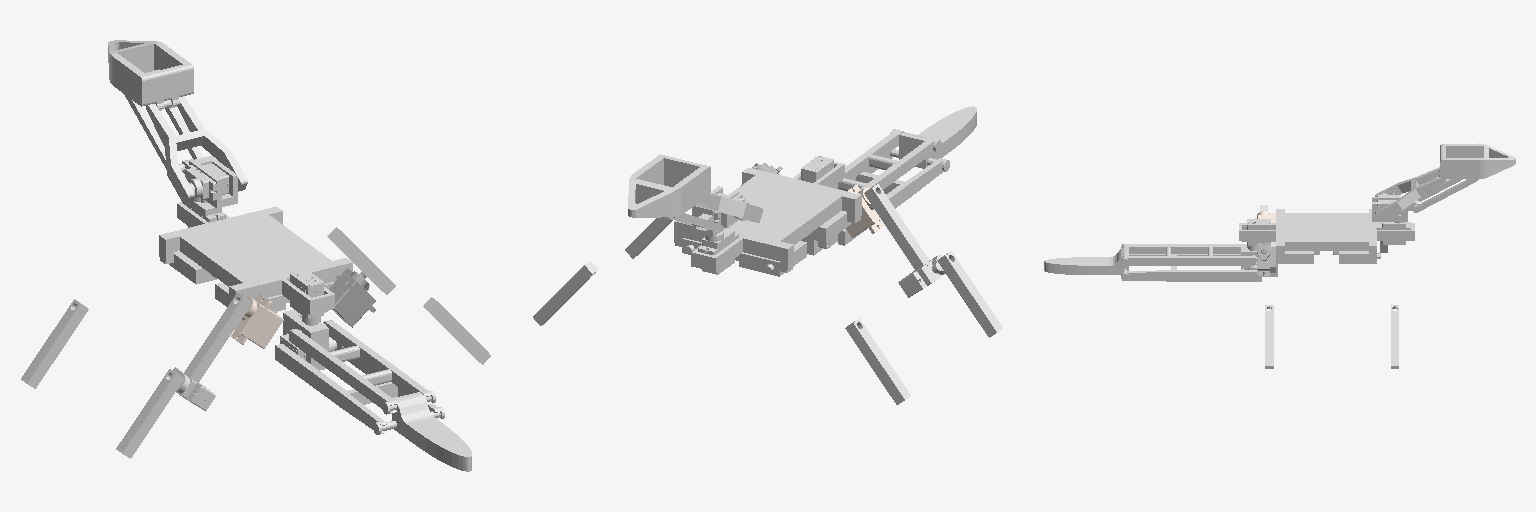
The robot description file, URDF, robot "lizardv2_description":
<?xml version="1.0" encoding="utf-8"?>
<!-- This URDF was automatically created by SolidWorks to URDF Exporter! Originally created by [author] ([email redacted])
     Commit Version: 1.5.0-0-g9aa0fdb  Build Version: 1.5.7004.21443
     For more information, please see http://wiki.ros.org/sw_urdf_exporter -->
<robot
  name="lizardv2_description">
  <link
    name="MainBoard">
    <inertial>
      <origin
        xyz="0.0318708943804719 0.023913899686553 -0.00595908163167723"
        rpy="0 0 0" />
      <mass
        value="0.127454615671169" />  <!-- 0.227454615671169 -->
      <inertia
        ixx="0.000136525777773456"
        ixy="3.12863888453759E-07"
        ixz="1.90573445048021E-08"
        iyy="4.68216222434367E-05"
        iyz="-2.83843165485194E-06"
        izz="0.000174561924229273" />
    </inertial>
    <visual>
      <origin
        xyz="0 0 0"
        rpy="0 0 0" />
      <geometry>
        <mesh
          filename="package://lizardv2_description/meshes/MainBoard.STL" />
      </geometry>
      <material
        name="">
        <color
          rgba="0.92156862745098 0.92156862745098 0.92156862745098 1" />
      </material>
    </visual>
    <collision>
      <origin
        xyz="0 0 0"
        rpy="0 0 0" />
      <geometry>
        <mesh
          filename="package://lizardv2_description/meshes/MainBoard.STL" />
      </geometry>
    </collision>
  </link>
  <link
    name="FRndServoLink">
    <inertial>
      <origin
        xyz="0.00980168628095077 0.00502207558822694 0.00196275745174633"
        rpy="0 0 0" />
      <mass
        value="0.00898215937174241" />
      <inertia
        ixx="5.02863358905766E-07"
        ixy="4.1867498994215E-10"
        ixz="3.94795319133528E-11"
        iyy="3.74381833099219E-07"
        iyz="-1.31121128197788E-07"
        izz="3.05060716060262E-07" />
    </inertial>
    <visual>
      <origin
        xyz="0 0 0"
        rpy="0 0 0" />
      <geometry>
        <mesh
          filename="package://lizardv2_description/meshes/FRndServoLink.STL" />
      </geometry>
      <material
        name="">
        <color
          rgba="0.749019607843137 0.749019607843137 0.749019607843137 1" />
      </material>
    </visual>
    <collision>
      <origin
        xyz="0 0 0"
        rpy="0 0 0" />
      <geometry>
        <mesh
          filename="package://lizardv2_description/meshes/FRndServoLink.STL" />
      </geometry>
    </collision>
  </link>
  <joint
    name="FRndServoJnt"
    type="continuous">
    <origin
      xyz="0.0615 0.087 -0.016"
      rpy="3.1416 0 1.5708" />
    <parent
      link="MainBoard" />
    <child
      link="FRndServoLink" />
    <axis
      xyz="-1 0 0" />
    <safety_controller
      k_velocity="0" />
  </joint>
  <link
    name="FRstArmLink">
    <inertial>
      <origin
        xyz="-0.0500875871691268 0.00194912578757789 0.000253934421777263"
        rpy="0 0 0" />
      <mass
        value="0.0107279118339416" />
      <inertia
        ixx="4.12846704724883E-07"
        ixy="-3.43056520530813E-12"
        ixz="7.44936775104867E-12"
        iyy="1.46713624904103E-06"
        iyz="-9.74334413202601E-09"
        izz="1.19624826531191E-06" />
    </inertial>
    <visual>
      <origin
        xyz="0 0 0"
        rpy="0 0 0" />
      <geometry>
        <mesh
          filename="package://lizardv2_description/meshes/FRstArmLink.STL" />
      </geometry>
      <material
        name="">
        <color
          rgba="0.92156862745098 0.92156862745098 0.92156862745098 1" />
      </material>
    </visual>
    <collision>
      <origin
        xyz="0 0 0"
        rpy="0 0 0" />
      <geometry>
        <mesh
          filename="package://lizardv2_description/meshes/FRstArmLink.STL" />
      </geometry>
    </collision>
  </link>
  <joint
    name="FRstArmJnt"
    type="continuous">
    <origin
      xyz="0.01165 0.012199 -0.010432"
      rpy="-1.5708 0.87266 -1.5708" />
    <parent
      link="FRndServoLink" />
    <child
      link="FRstArmLink" />
    <axis
      xyz="0 -1 0" />
    <safety_controller
      k_velocity="0" />
  </joint>
  <link
    name="FRndArmLink">
    <inertial>
      <origin
        xyz="2.22044604925031E-16 0.00399999999999981 0.0271089217366484"
        rpy="0 0 0" />
      <mass
        value="0.0036829203673205" />
      <inertia
        ixx="1.060682058846E-06"
        ixy="-2.61078880837049E-23"
        ixz="-3.15646547974623E-21"
        iyy="1.0612743799609E-06"
        iyz="-1.68132721636094E-22"
        izz="3.98768050329809E-08" />
    </inertial>
    <visual>
      <origin
        xyz="0 0 0"
        rpy="0 0 0" />
      <geometry>
        <mesh
          filename="package://lizardv2_description/meshes/FRndArmLink.STL" />
      </geometry>
      <material
        name="">
        <color
          rgba="0.92156862745098 0.92156862745098 0.92156862745098 1" />
      </material>
    </visual>
    <collision>
      <origin
        xyz="0 0 0"
        rpy="0 0 0" />
      <geometry>
        <mesh
          filename="package://lizardv2_description/meshes/FRndArmLink.STL" />
      </geometry>
    </collision>
  </link>
  <joint
    name="FRndArmJnt"
    type="continuous">
    <origin
      xyz="-0.0621 0.01505 0.00515"
      rpy="1.6427 -1.5708 -1.6427" />
    <parent
      link="FRstArmLink" />
    <child
      link="FRndArmLink" />
    <axis
      xyz="0 -1 0" />
    <safety_controller
      k_velocity="0" />
  </joint>
  <link
    name="FLndServoLink">
    <inertial>
      <origin
        xyz="0.0050221 0.0098014 0.0019628"
        rpy="0 0 0" />
      <mass
        value="0.0089822" />
      <inertia
        ixx="3.7438E-07"
        ixy="4.0384E-10"
        ixz="-1.3112E-07"
        iyy="5.0286E-07"
        iyz="3.2481E-11"
        izz="3.0506E-07" />
    </inertial>
    <visual>
      <origin
        xyz="0 0 0"
        rpy="0 0 0" />
      <geometry>
        <mesh
          filename="package://lizardv2_description/meshes/FLndServoLink.STL" />
      </geometry>
      <material
        name="">
        <color
          rgba="1 0.94902 0.9098 1" />
      </material>
    </visual>
    <collision>
      <origin
        xyz="0 0 0"
        rpy="0 0 0" />
      <geometry>
        <mesh
          filename="package://lizardv2_description/meshes/FLndServoLink.STL" />
      </geometry>
    </collision>
  </link>
  <joint
    name="FLndServoJnt"
    type="continuous">
    <origin
      xyz="0.0025 0.087 -0.016"
      rpy="-3.1416 0 3.1416" />
    <parent
      link="MainBoard" />
    <child
      link="FLndServoLink" />
    <axis
      xyz="0 -1 0" />
    <safety_controller
      k_velocity="0" />
  </joint>
  <link
    name="FLstArmLink">
    <inertial>
      <origin
        xyz="-0.0500875872307532 0.00194912586046352 0.000253934457508431"
        rpy="0 0 0" />
      <mass
        value="0.0107279119252347" />
      <inertia
        ixx="4.12846706539516E-07"
        ixy="-3.4316328345475E-12"
        ixz="7.44762988494872E-12"
        iyy="1.46713625236567E-06"
        iyz="-9.74334495191596E-09"
        izz="1.19624826786885E-06" />
    </inertial>
    <visual>
      <origin
        xyz="0 0 0"
        rpy="0 0 0" />
      <geometry>
        <mesh
          filename="package://lizardv2_description/meshes/FLstArmLink.STL" />
      </geometry>
      <material
        name="">
        <color
          rgba="0.92156862745098 0.92156862745098 0.92156862745098 1" />
      </material>
    </visual>
    <collision>
      <origin
        xyz="0 0 0"
        rpy="0 0 0" />
      <geometry>
        <mesh
          filename="package://lizardv2_description/meshes/FLstArmLink.STL" />
      </geometry>
    </collision>
  </link>
  <joint
    name="FLstArmJnt"
    type="continuous">
    <origin
      xyz="0.012199 0.01165 -0.010432"
      rpy="-1.5708 0.87266 3.1416" />
    <parent
      link="FLndServoLink" />
    <child
      link="FLstArmLink" />
    <axis
      xyz="0 -1 0" />
    <safety_controller
      k_velocity="0" />
  </joint>
  <link
    name="FLndArmLink">
    <inertial>
      <origin
        xyz="0 0.00399999999999997 0.0271089217366484"
        rpy="0 0 0" />
      <mass
        value="0.00368292036732051" />
      <inertia
        ixx="1.06068205884601E-06"
        ixy="-2.27474668452083E-23"
        ixz="-2.5127792148929E-22"
        iyy="1.0612743799609E-06"
        iyz="1.79587457327763E-21"
        izz="3.98768050329804E-08" />
    </inertial>
    <visual>
      <origin
        xyz="0 0 0"
        rpy="0 0 0" />
      <geometry>
        <mesh
          filename="package://lizardv2_description/meshes/FLndArmLink.STL" />
      </geometry>
      <material
        name="">
        <color
          rgba="0.92156862745098 0.92156862745098 0.92156862745098 1" />
      </material>
    </visual>
    <collision>
      <origin
        xyz="0 0 0"
        rpy="0 0 0" />
      <geometry>
        <mesh
          filename="package://lizardv2_description/meshes/FLndArmLink.STL" />
      </geometry>
    </collision>
  </link>
  <joint
    name="FLndArmJnt"
    type="continuous">
    <origin
      xyz="-0.0621 0.01505 0.00515"
      rpy="-1.9544 -1.5708 1.9544" />
    <parent
      link="FLstArmLink" />
    <child
      link="FLndArmLink" />
    <axis
      xyz="0 -1 0" />
    <safety_controller
      k_velocity="0" />
  </joint>
  <link
    name="RLndServoLink">
    <inertial>
      <origin
        xyz="0.00502207563121094 0.00980168635904874 -0.00196275734735713"
        rpy="0 0 0" />
      <mass
        value="0.0089821594835975" />
      <inertia
        ixx="3.74381837395238E-07"
        ixy="4.18675619504707E-10"
        ixz="1.311211286574E-07"
        iyy="5.0286336077878E-07"
        iyz="-3.94816041911556E-11"
        izz="3.05060718753469E-07" />
    </inertial>
    <visual>
      <origin
        xyz="0 0 0"
        rpy="0 0 0" />
      <geometry>
        <mesh
          filename="package://lizardv2_description/meshes/RLndServoLink.STL" />
      </geometry>
      <material
        name="">
        <color
          rgba="1 0.949019607843137 0.909803921568627 1" />
      </material>
    </visual>
    <collision>
      <origin
        xyz="0 0 0"
        rpy="0 0 0" />
      <geometry>
        <mesh
          filename="package://lizardv2_description/meshes/RLndServoLink.STL" />
      </geometry>
    </collision>
  </link>
  <joint
    name="RLndServoJnt"
    type="continuous">
    <origin
      xyz="0.00249999999999984 -0.00799999999999976 -0.016"
      rpy="0 0 -3.14159265358979" />
    <parent
      link="MainBoard" />
    <child
      link="RLndServoLink" />
    <axis
      xyz="0 -1 0" />
    <safety_controller
      k_velocity="0" />
  </joint>
  <link
    name="RLstArmLink">
    <inertial>
      <origin
        xyz="-0.0500875871887852 0.00194912580032853 0.000253934434909332"
        rpy="0 0 0" />
      <mass
        value="0.0107279118502789" />
      <inertia
        ixx="4.12846705905815E-07"
        ixy="-3.4305322531194E-12"
        ixz="7.44950999545174E-12"
        iyy="1.46713625013441E-06"
        iyz="-9.74334443894416E-09"
        izz="1.19624826539149E-06" />
    </inertial>
    <visual>
      <origin
        xyz="0 0 0"
        rpy="0 0 0" />
      <geometry>
        <mesh
          filename="package://lizardv2_description/meshes/RLstArmLink.STL" />
      </geometry>
      <material
        name="">
        <color
          rgba="0.92156862745098 0.92156862745098 0.92156862745098 1" />
      </material>
    </visual>
    <collision>
      <origin
        xyz="0 0 0"
        rpy="0 0 0" />
      <geometry>
        <mesh
          filename="package://lizardv2_description/meshes/RLstArmLink.STL" />
      </geometry>
    </collision>
  </link>
  <joint
    name="RLstArmJnt"
    type="continuous">
    <origin
      xyz="0.012199 0.01165 0.010432"
      rpy="1.5708 -0.87266 3.1416" />
    <parent
      link="RLndServoLink" />
    <child
      link="RLstArmLink" />
    <axis
      xyz="0 -1 0" />
    <safety_controller
      k_velocity="0" />
  </joint>
  <link
    name="RLndArmLink">
    <inertial>
      <origin
        xyz="1.04083408558608E-17 0.0039999999999999 0.0271089217366484"
        rpy="0 0 0" />
      <mass
        value="0.00368292036732051" />
      <inertia
        ixx="1.06068205884601E-06"
        ixy="-8.01331218410746E-24"
        ixz="-4.74262065502718E-22"
        iyy="1.0612743799609E-06"
        iyz="2.70761829788275E-21"
        izz="3.98768050329819E-08" />
    </inertial>
    <visual>
      <origin
        xyz="0 0 0"
        rpy="0 0 0" />
      <geometry>
        <mesh
          filename="package://lizardv2_description/meshes/RLndArmLink.STL" />
      </geometry>
      <material
        name="">
        <color
          rgba="0.92156862745098 0.92156862745098 0.92156862745098 1" />
      </material>
    </visual>
    <collision>
      <origin
        xyz="0 0 0"
        rpy="0 0 0" />
      <geometry>
        <mesh
          filename="package://lizardv2_description/meshes/RLndArmLink.STL" />
      </geometry>
    </collision>
  </link>
  <joint
    name="RLndArmJnt"
    type="continuous">
    <origin
      xyz="-0.0621 0.0150500000000294 0.00514999999999813"
      rpy="1.65099348915861 -1.57079631189374 -1.65101528723285" />
    <parent
      link="RLstArmLink" />
    <child
      link="RLndArmLink" />
    <axis
      xyz="0 -1 0" />
    <safety_controller
      k_velocity="0" />
  </joint>
  <link
    name="RRndServoLink">
    <inertial>
      <origin
        xyz="0.00502207558923236 0.00980140817312039 0.00196275743749004"
        rpy="0 0 0" />
      <mass
        value="0.0089821593830116" />
      <inertia
        ixx="3.74381833688478E-07"
        ixy="4.03840801382856E-10"
        ixz="-1.31121128506431E-07"
        iyy="5.02863359642084E-07"
        iyz="3.24811414167132E-11"
        izz="3.05060716261189E-07" />
    </inertial>
    <visual>
      <origin
        xyz="0 0 0"
        rpy="0 0 0" />
      <geometry>
        <mesh
          filename="package://lizardv2_description/meshes/RRndServoLink.STL" />
      </geometry>
      <material
        name="">
        <color
          rgba="0.749019607843137 0.749019607843137 0.749019607843137 1" />
      </material>
    </visual>
    <collision>
      <origin
        xyz="0 0 0"
        rpy="0 0 0" />
      <geometry>
        <mesh
          filename="package://lizardv2_description/meshes/RRndServoLink.STL" />
      </geometry>
    </collision>
  </link>
  <joint
    name="RRndServoJnt"
    type="continuous">
    <origin
      xyz="0.0615 -0.008 -0.016"
      rpy="3.1416 0 0" />
    <parent
      link="MainBoard" />
    <child
      link="RRndServoLink" />
    <axis
      xyz="0 -1 0" />
    <safety_controller
      k_velocity="0" />
  </joint>
  <link
    name="RRstArmLink">
    <inertial>
      <origin
        xyz="-0.0500875871855856 0.00194912579792408 0.000253934432809969"
        rpy="0 0 0" />
      <mass
        value="0.010727911847315" />
      <inertia
        ixx="4.12846705724035E-07"
        ixy="-3.43052945421761E-12"
        ixz="7.44951429518066E-12"
        iyy="1.46713624995875E-06"
        iyz="-9.74334438824114E-09"
        izz="1.19624826536474E-06" />
    </inertial>
    <visual>
      <origin
        xyz="0 0 0"
        rpy="0 0 0" />
      <geometry>
        <mesh
          filename="package://lizardv2_description/meshes/RRstArmLink.STL" />
      </geometry>
      <material
        name="">
        <color
          rgba="0.92156862745098 0.92156862745098 0.92156862745098 1" />
      </material>
    </visual>
    <collision>
      <origin
        xyz="0 0 0"
        rpy="0 0 0" />
      <geometry>
        <mesh
          filename="package://lizardv2_description/meshes/RRstArmLink.STL" />
      </geometry>
    </collision>
  </link>
  <joint
    name="RRstArmJnt"
    type="continuous">
    <origin
      xyz="0.012199 0.01165 -0.010432"
      rpy="-1.5708 0.87266 3.1416" />
    <parent
      link="RRndServoLink" />
    <child
      link="RRstArmLink" />
    <axis
      xyz="0 -1 0" />
    <safety_controller
      k_velocity="0" />
  </joint>
  <link
    name="RRndArmLink">
    <inertial>
      <origin
        xyz="-2.77555756156289E-17 0.00399999999999998 0.0271089217366484"
        rpy="0 0 0" />
      <mass
        value="0.00368292036732051" />
      <inertia
        ixx="1.06068205884601E-06"
        ixy="-5.19572822259871E-24"
        ixz="1.09164737960985E-21"
        iyy="1.0612743799609E-06"
        iyz="-1.82905961988466E-23"
        izz="3.987680503298E-08" />
    </inertial>
    <visual>
      <origin
        xyz="0 0 0"
        rpy="0 0 0" />
      <geometry>
        <mesh
          filename="package://lizardv2_description/meshes/RRndArmLink.STL" />
      </geometry>
      <material
        name="">
        <color
          rgba="0.92156862745098 0.92156862745098 0.92156862745098 1" />
      </material>
    </visual>
    <collision>
      <origin
        xyz="0 0 0"
        rpy="0 0 0" />
      <geometry>
        <mesh
          filename="package://lizardv2_description/meshes/RRndArmLink.STL" />
      </geometry>
    </collision>
  </link>
  <joint
    name="RRndArmJnt"
    type="continuous">
    <origin
      xyz="-0.0621 0.01505 0.00515"
      rpy="-1.3846 -1.5708 1.3846" />
    <parent
      link="RRstArmLink" />
    <child
      link="RRndArmLink" />
    <axis
      xyz="0 -1 0" />
    <safety_controller
      k_velocity="0" />
  </joint>
  <!-- Transmissions todo: rename-->

    <!-- front right leg -->
    <transmission name="tran_fr_leg_1">
      <type>transmission_interface/SimpleTransmission</type>
      <actuator name="ac_fr_leg_1">
        <mechanicalReduction>1</mechanicalReduction>
      </actuator>
      <joint name="FRndServoJnt">
        <hardwareInterface>hardware_interface/PositionJointInterface</hardwareInterface>
      </joint>
    </transmission>

    <transmission name="tran_fr_leg_2">
      <type>transmission_interface/SimpleTransmission</type>
      <actuator name="ac_fr_leg_2">
        <mechanicalReduction>1</mechanicalReduction>
      </actuator>
      <joint name="FRstArmJnt">
        <hardwareInterface>hardware_interface/PositionJointInterface</hardwareInterface>
      </joint>
    </transmission>

    <transmission name="tran_fr_leg_3">
      <type>transmission_interface/SimpleTransmission</type>
      <actuator name="ac_fr_leg_3">
        <mechanicalReduction>1</mechanicalReduction>
      </actuator>
      <joint name="FRndArmJnt">
        <hardwareInterface>hardware_interface/PositionJointInterface</hardwareInterface>
      </joint>
    </transmission>

    <!-- front left leg -->
    <transmission name="tran_fl_leg_1">
      <type>transmission_interface/SimpleTransmission</type>
      <actuator name="ac_fl_leg_1">
        <mechanicalReduction>1</mechanicalReduction>
      </actuator>
      <joint name="FLndServoJnt">
        <hardwareInterface>hardware_interface/PositionJointInterface</hardwareInterface>
      </joint>
    </transmission>

    <transmission name="tran_fl_leg_2">
      <type>transmission_interface/SimpleTransmission</type>
      <actuator name="ac_fl_leg_2">
        <mechanicalReduction>1</mechanicalReduction>
      </actuator>
      <joint name="FLstArmJnt">
        <hardwareInterface>hardware_interface/PositionJointInterface</hardwareInterface>
      </joint>
    </transmission>

    <transmission name="tran_fl_leg_3">
      <type>transmission_interface/SimpleTransmission</type>
      <actuator name="ac_fl_leg_3">
        <mechanicalReduction>1</mechanicalReduction>
      </actuator>
      <joint name="FLndArmJnt">
        <hardwareInterface>hardware_interface/PositionJointInterface</hardwareInterface>
      </joint>
    </transmission>

    <!-- rear right leg -->
    <transmission name="tran_rr_leg_1">
      <type>transmission_interface/SimpleTransmission</type>
      <actuator name="ac_rr_leg_1">
        <mechanicalReduction>1</mechanicalReduction>
      </actuator>
      <joint name="RRndServoJnt">
        <hardwareInterface>hardware_interface/PositionJointInterface</hardwareInterface>
      </joint>
    </transmission>

    <transmission name="tran_rr_leg_2">
      <type>transmission_interface/SimpleTransmission</type>
      <actuator name="ac_rr_leg_2">
        <mechanicalReduction>1</mechanicalReduction>
      </actuator>
      <joint name="RRstArmJnt">
        <hardwareInterface>hardware_interface/PositionJointInterface</hardwareInterface>
      </joint>
    </transmission>

    <transmission name="tran_rr_leg_3">
      <type>transmission_interface/SimpleTransmission</type>
      <actuator name="ac_rr_leg_3">
        <mechanicalReduction>1</mechanicalReduction>
      </actuator>
      <joint name="RRndArmJnt">
        <hardwareInterface>hardware_interface/PositionJointInterface</hardwareInterface>
      </joint>
    </transmission>

    <!-- rear left leg -->
    <transmission name="tran_rl_leg_1">
      <type>transmission_interface/SimpleTransmission</type>
      <actuator name="ac_rl_leg_1">
        <mechanicalReduction>1</mechanicalReduction>
      </actuator>
      <joint name="RLndServoJnt">
        <hardwareInterface>hardware_interface/PositionJointInterface</hardwareInterface>
      </joint>
    </transmission>

    <transmission name="tran_rl_leg_2">
      <type>transmission_interface/SimpleTransmission</type>
      <actuator name="ac_rl_leg_2">
        <mechanicalReduction>1</mechanicalReduction>
      </actuator>
      <joint name="RLstArmJnt">
        <hardwareInterface>hardware_interface/PositionJointInterface</hardwareInterface>
      </joint>
    </transmission>

    <transmission name="tran_rl_leg_3">
      <type>transmission_interface/SimpleTransmission</type>
      <actuator name="ac_rl_leg_3">
        <mechanicalReduction>1</mechanicalReduction>
      </actuator>
      <joint name="RLndArmJnt">
        <hardwareInterface>hardware_interface/PositionJointInterface</hardwareInterface>
      </joint>
    </transmission>

  <!-- Gazebo plugins -->





    <gazebo>
      <static>false</static>
      <plugin name="gazebo_ros_control" filename="libgazebo_ros_control.so">
        <robotNamespace>/</robotNamespace>
        <robotSimType>gazebo_ros_control/DefaultRobotHWSim</robotSimType>
        <legacyModeNS>true</legacyModeNS>
      </plugin>
    </gazebo>
</robot>

--- What the picture shows (computed from the rendered views, not written in the file) ---
The picture shows the robot from 3 angles, left to right: view 1: azimuth 30°, elevation 25°; view 2: azimuth 150°, elevation 25°; view 3: azimuth 270°, elevation 25°; orthographic projection.
Robot: lizardv2_description — 13 links, 12 joints (12 continuous); root link MainBoard; default pose: every joint at zero.
Links seen in each view (by area): view 1: MainBoard, RLstArmLink, FLndArmLink, RLndArmLink, RRndServoLink, RLndServoLink, RRndArmLink, FRndArmLink; view 2: MainBoard, RLstArmLink, FLndArmLink, RLndArmLink, FRndArmLink, RLndServoLink, RRndArmLink; view 3: MainBoard, RRndServoLink, RRndArmLink.
Boxes of the visible links, x1=… form: MainBoard: x1=108, y1=40, x2=471, y2=471; RLstArmLink: x1=172, y1=293, x2=251, y2=410; FLndArmLink: x1=21, y1=299, x2=88, y2=388; RLndArmLink: x1=116, y1=369, x2=183, y2=458; RRndServoLink: x1=329, y1=268, x2=375, y2=327; RLndServoLink: x1=231, y1=294, x2=283, y2=348; RRndArmLink: x1=423, y1=297, x2=490, y2=364; FRndArmLink: x1=327, y1=227, x2=395, y2=294; MainBoard: x1=628, y1=106, x2=976, y2=276; RLstArmLink: x1=864, y1=184, x2=945, y2=297; FLndArmLink: x1=845, y1=318, x2=910, y2=404; RLndArmLink: x1=937, y1=251, x2=1002, y2=337; FRndArmLink: x1=533, y1=261, x2=598, y2=325; RLndServoLink: x1=846, y1=185, x2=883, y2=237; RRndArmLink: x1=625, y1=217, x2=672, y2=258; MainBoard: x1=1044, y1=143, x2=1515, y2=281; RRndServoLink: x1=1257, y1=243, x2=1275, y2=275; RRndArmLink: x1=1265, y1=305, x2=1273, y2=368.
Size in the robot's own frame: 0.2705 by 0.4435 by 0.1644 metres.
8 mesh visuals loaded from 13 distinct referenced files (8 binary STL); not drawn: 5 (reference not matched to a file when rendering).
